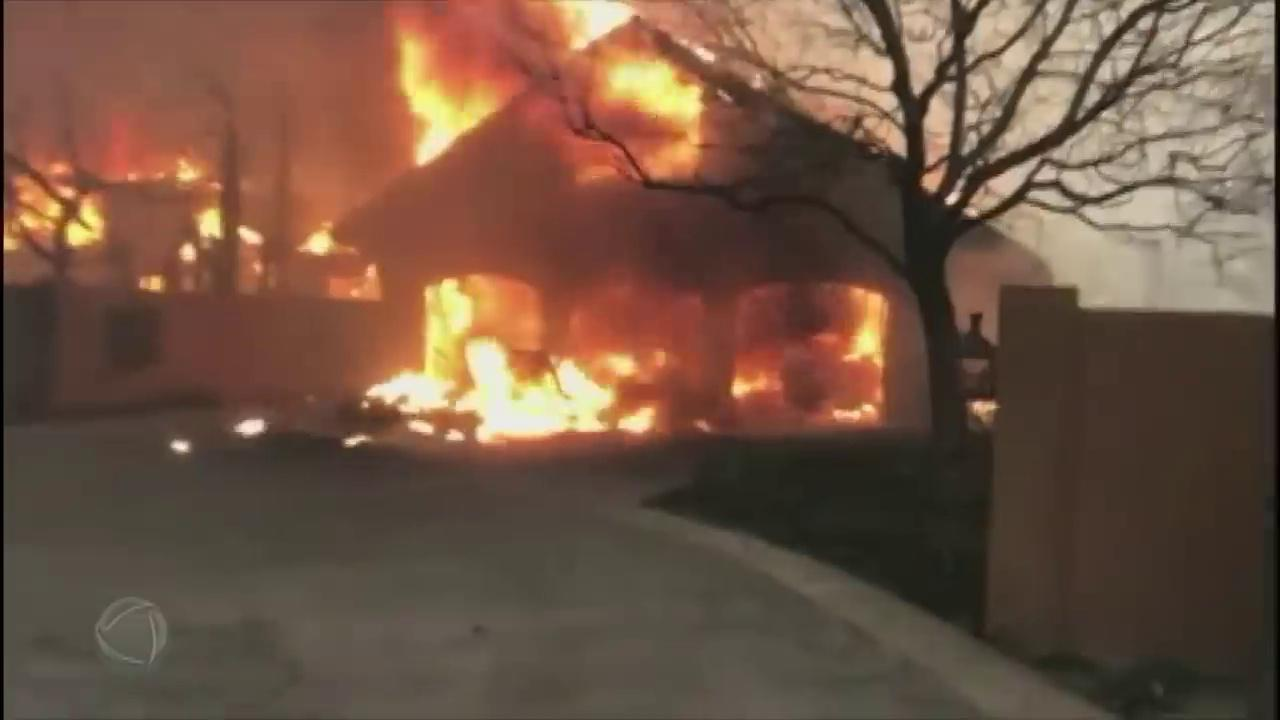Fire: (352, 329, 681, 451), (731, 306, 884, 433), (386, 25, 504, 171), (574, 58, 688, 186), (4, 150, 111, 250), (179, 206, 261, 265), (152, 146, 224, 191), (296, 220, 351, 271), (163, 432, 196, 459), (234, 420, 270, 441), (142, 275, 166, 290)
